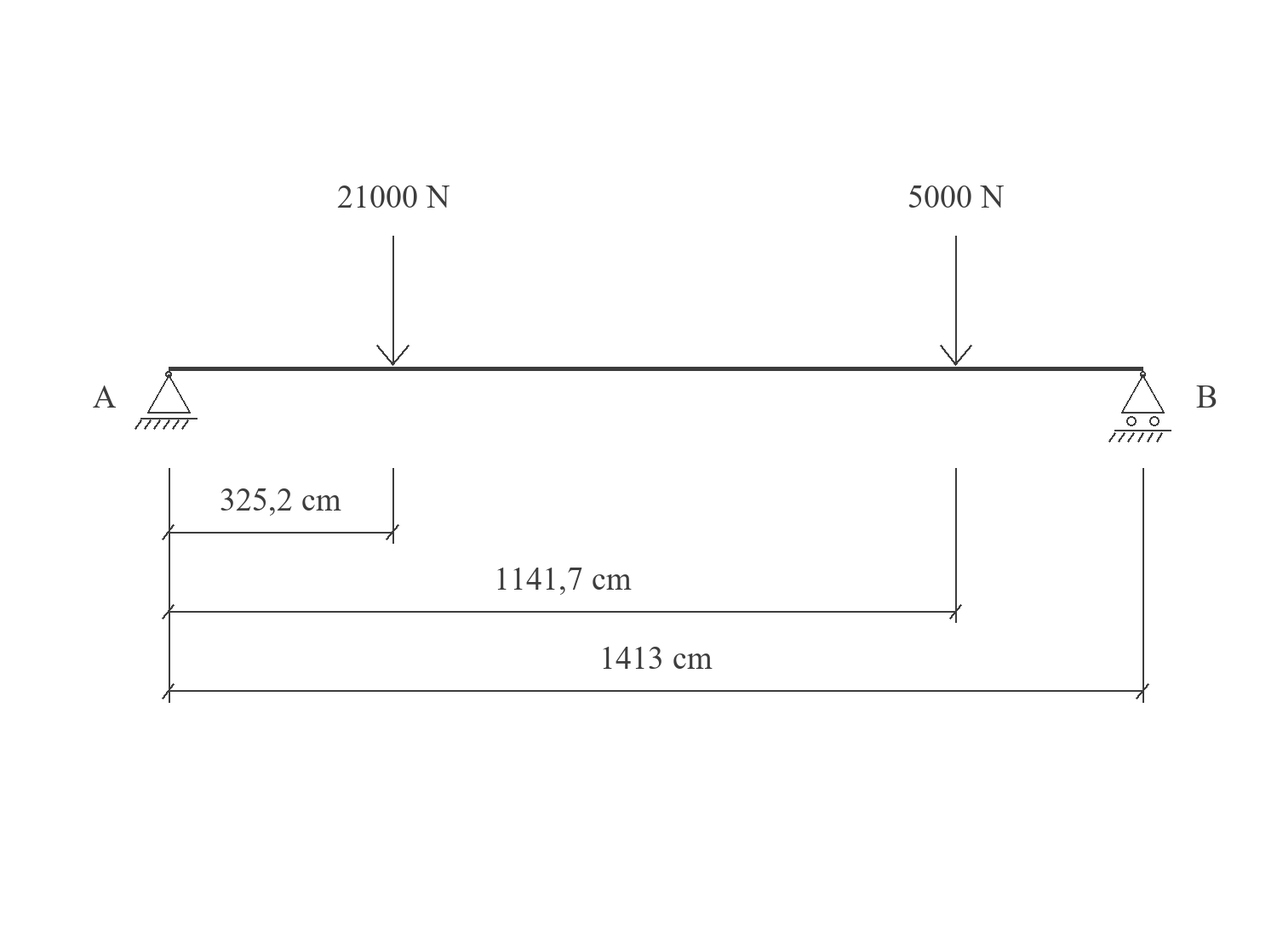pin_support: (135, 371, 198, 430)
point_load: (376, 236, 409, 366), (940, 236, 972, 366)
roller_support: (1108, 371, 1171, 442)
